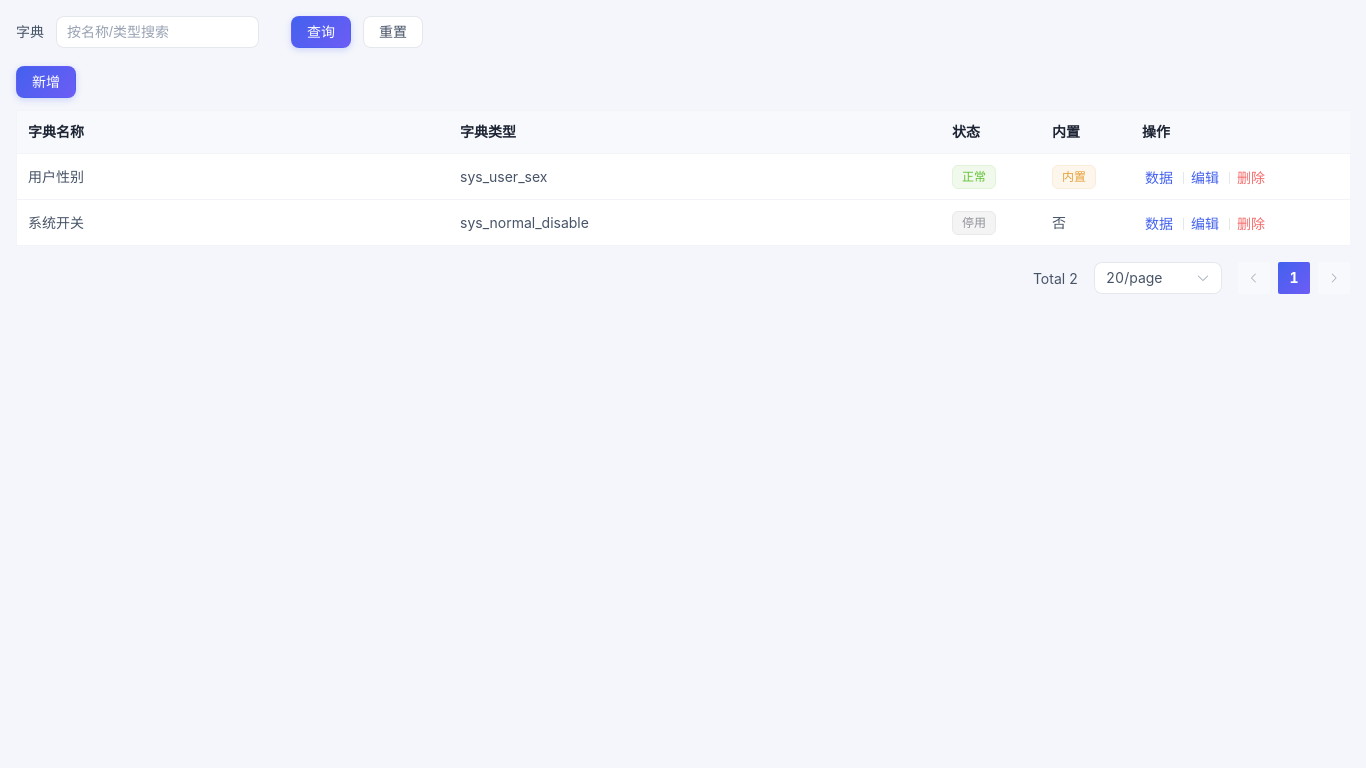
Test: 字典管理页 › 点新增 → 打开字典类型对话框
Click the button "新增".
click(46, 82)  # box [16,66,76,98]
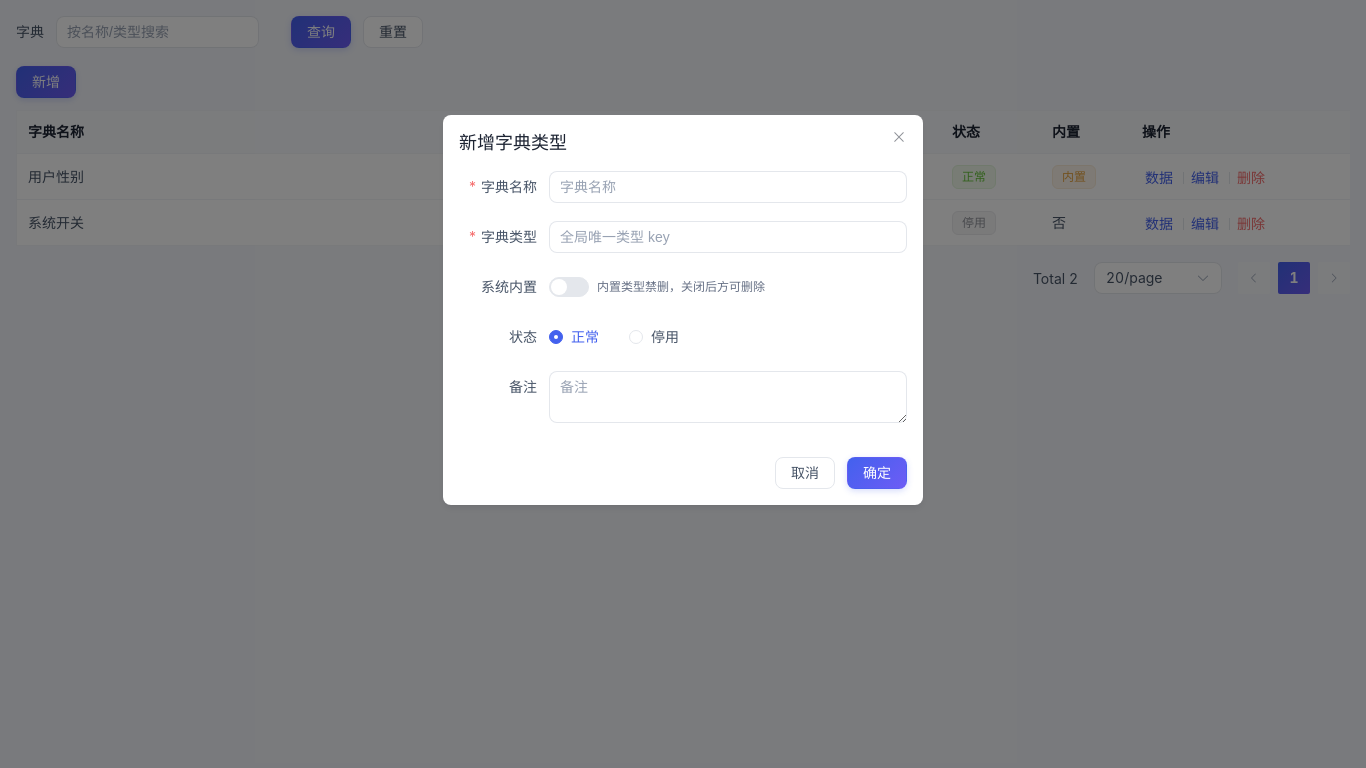
Check: the text "新增字典类型" is shown, box [459,132,567,153]
